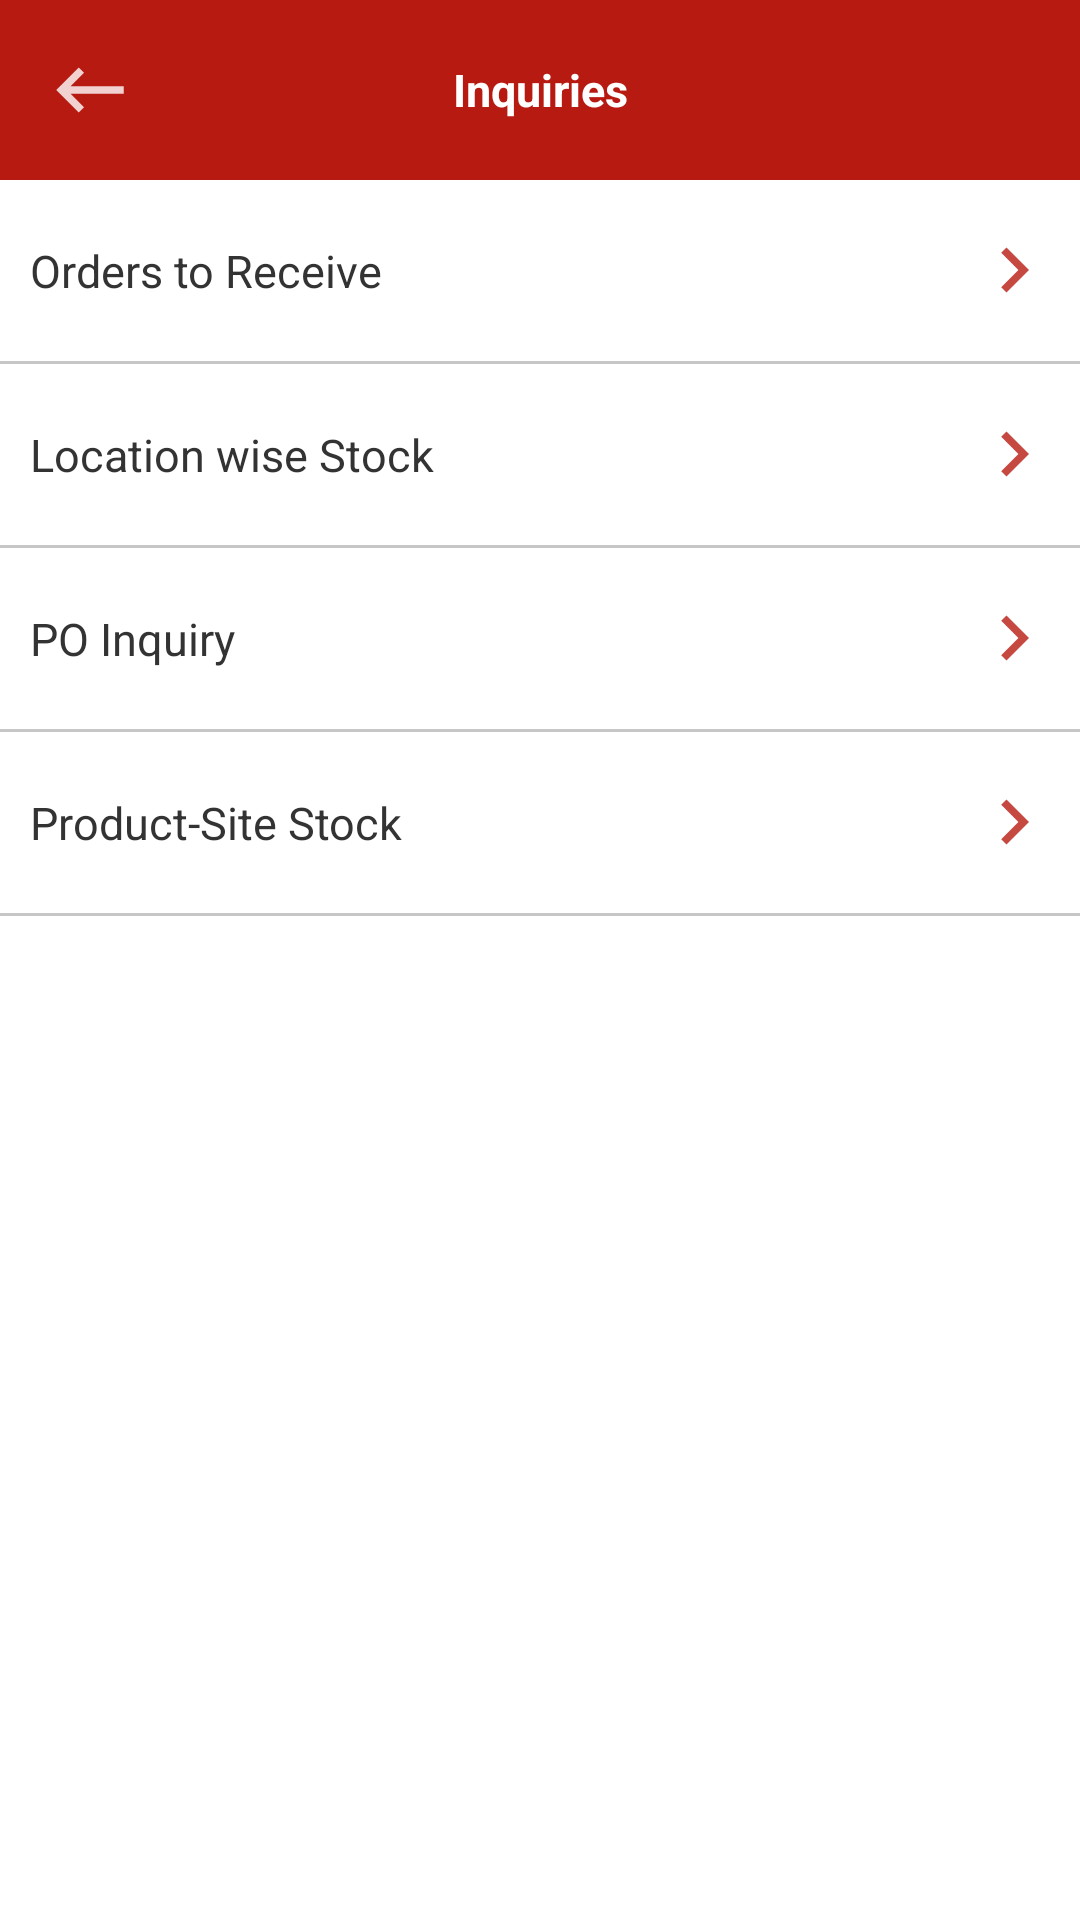

Where icons sit on this 1080 x 1920 app screen, as (x1, y1, x2, y2):
arrow right: (1001, 247, 1029, 293), (1001, 431, 1029, 477), (1001, 615, 1029, 661), (1001, 799, 1029, 845)
back arrow: (56, 67, 124, 113)
